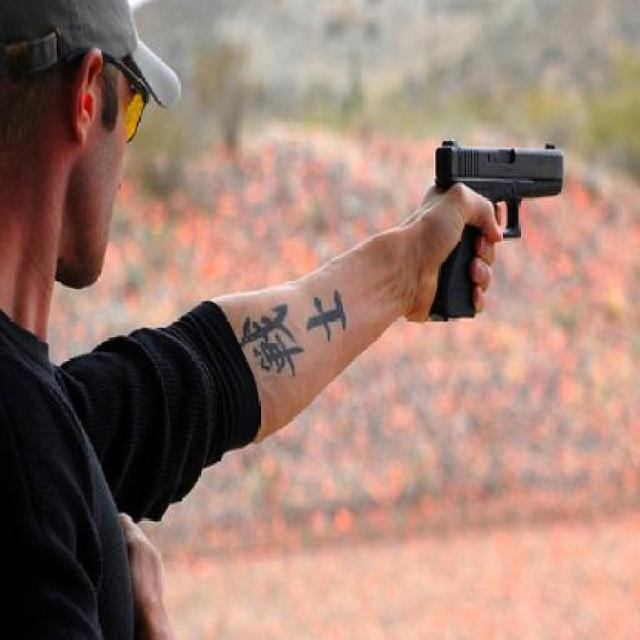guns: (426, 136, 565, 318)
